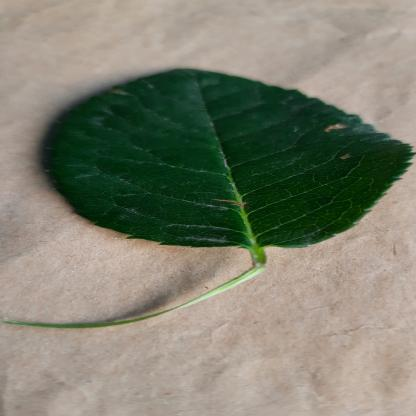normal: (40, 67, 415, 254)
